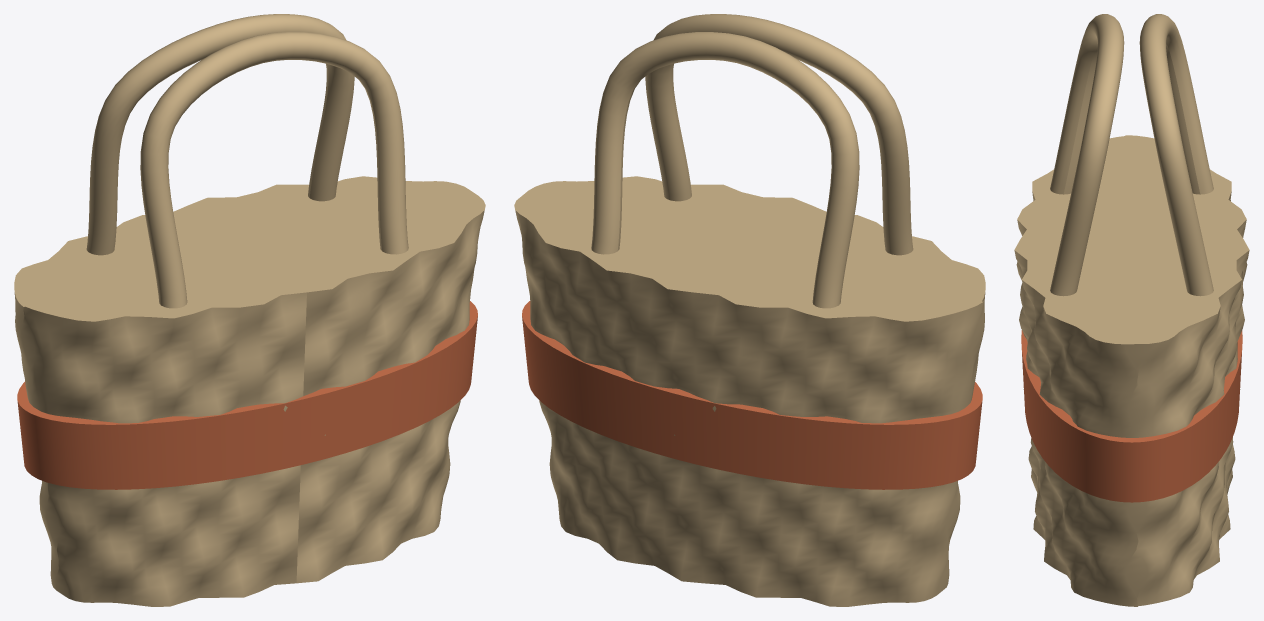
Rendered from crochet_bag.glb.
The picture shows the model from 3 angles, left to right: view 1: azimuth 30°, elevation 25°; view 2: azimuth 150°, elevation 25°; view 3: azimuth 270°, elevation 25°; orthographic projection. The views are drawn at different scales.
Size of the model in its own units: 1.56 by 1.7 by 0.7433.
